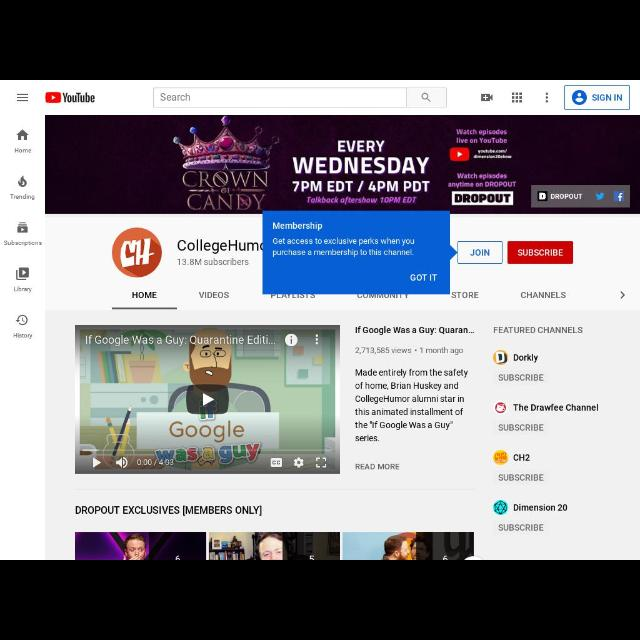icon: (42, 91, 96, 103), (12, 264, 30, 282), (12, 220, 32, 236), (591, 188, 609, 204), (14, 90, 31, 106), (12, 312, 30, 326), (490, 450, 508, 464), (14, 128, 30, 142), (612, 188, 626, 204), (268, 456, 284, 469), (570, 92, 586, 105), (88, 456, 102, 470), (282, 334, 298, 346), (478, 91, 494, 103), (493, 352, 509, 364), (15, 175, 28, 189), (292, 456, 306, 468), (314, 457, 328, 469), (510, 92, 522, 104), (536, 191, 548, 203), (494, 402, 506, 414), (115, 458, 129, 468), (497, 500, 507, 514), (420, 91, 432, 102), (540, 93, 552, 103), (619, 288, 627, 300)
image: (75, 326, 338, 472), (208, 533, 340, 559), (342, 533, 474, 559), (76, 532, 204, 558), (108, 225, 164, 279)
input: (154, 87, 446, 107)
text: (354, 368, 470, 430), (80, 332, 274, 346), (272, 238, 414, 256), (291, 156, 429, 174), (75, 504, 261, 516), (290, 182, 428, 192), (304, 194, 416, 206), (448, 171, 518, 189), (175, 240, 262, 252), (457, 128, 508, 146), (512, 404, 600, 412), (355, 326, 471, 332), (270, 220, 324, 232), (356, 348, 464, 354), (177, 258, 249, 266), (518, 288, 566, 300), (336, 140, 382, 152), (492, 326, 584, 332), (498, 522, 544, 534), (498, 473, 544, 483), (354, 462, 400, 471), (498, 373, 544, 381), (498, 423, 544, 431), (514, 504, 566, 511), (449, 290, 481, 300), (408, 273, 438, 283), (358, 294, 408, 300), (4, 240, 42, 247), (512, 352, 538, 362), (160, 93, 190, 101), (356, 432, 378, 442), (130, 292, 156, 300), (197, 292, 231, 298), (550, 193, 584, 199), (272, 295, 318, 299), (9, 194, 35, 200), (15, 332, 32, 340), (12, 286, 34, 292), (12, 148, 34, 154), (514, 454, 530, 462)
textbutton: (508, 240, 572, 264), (564, 86, 630, 108), (458, 242, 502, 264)
toolbar: (1, 80, 640, 114)
